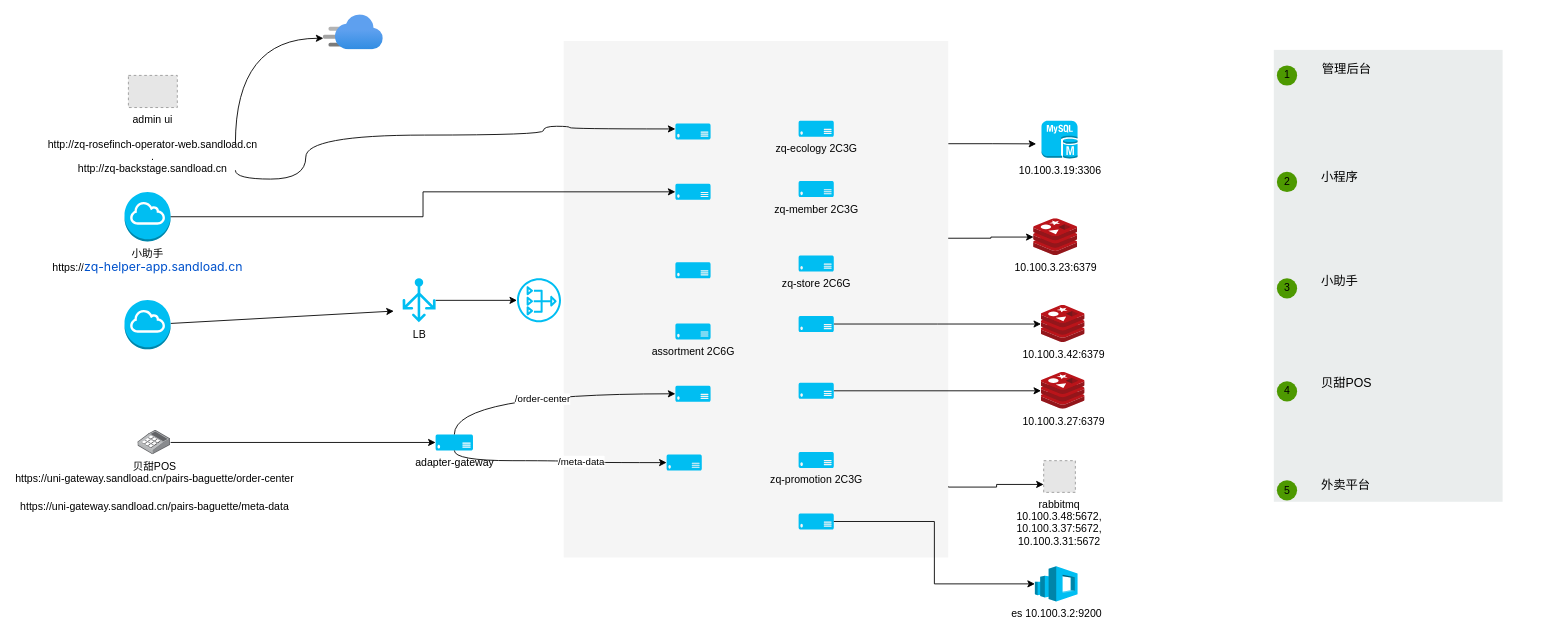
Some shapes in this 1553 by 635 pixel diagram are drawn without their labels. Grey dashed boxes stand in for pictures. Here are the shapes that lost their labels. From the top down, the box of each, then its label:
(323, 14, 383, 49): CDN
(675, 123, 710, 139): zq_backstage 2C3G
(675, 183, 710, 199): zq_helper 2C3G
(675, 262, 710, 278): zq-gateway 2C6G
(517, 278, 561, 322): nginx ingress
(124, 299, 171, 349): 小程序点餐 https:// zq-gateway.sandload.cn
(798, 316, 833, 332): zq-product 2C6G
(675, 385, 710, 401): fulfillment 2C3G
(798, 382, 833, 398): zq-order 2C4G
(666, 454, 701, 470): zq_iron 2C3G
(798, 513, 833, 529): zq-es-service 2C3G
